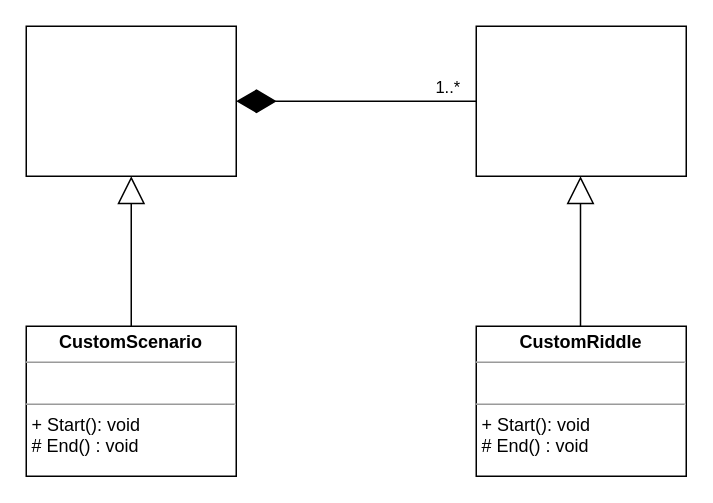
Image size: 713x503. Some labels were removed from this diagram. Here are the shapes that lost their labels. From the top down, the centre of each, then its label:
At (x=130, y=100): "Scenario + Start(): void # End() : void".
At (x=580, y=100): "Riddle + Start(): void # End() : void".
